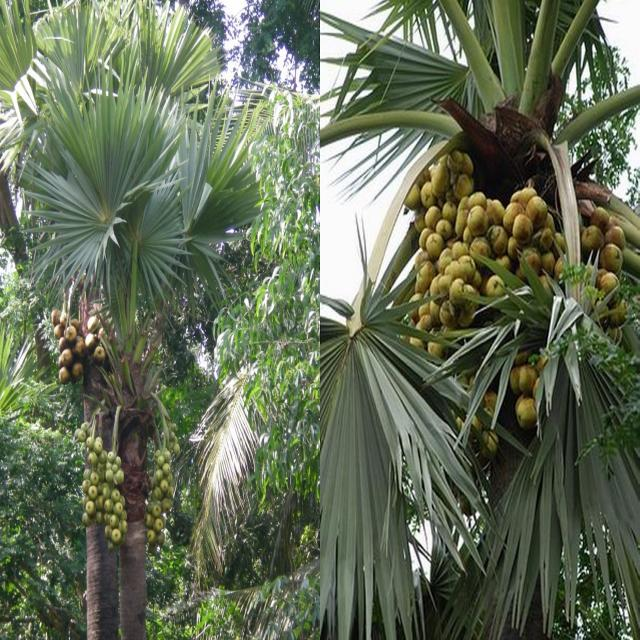Plam-Tree: (52, 36, 245, 640), (417, 164, 604, 390)
